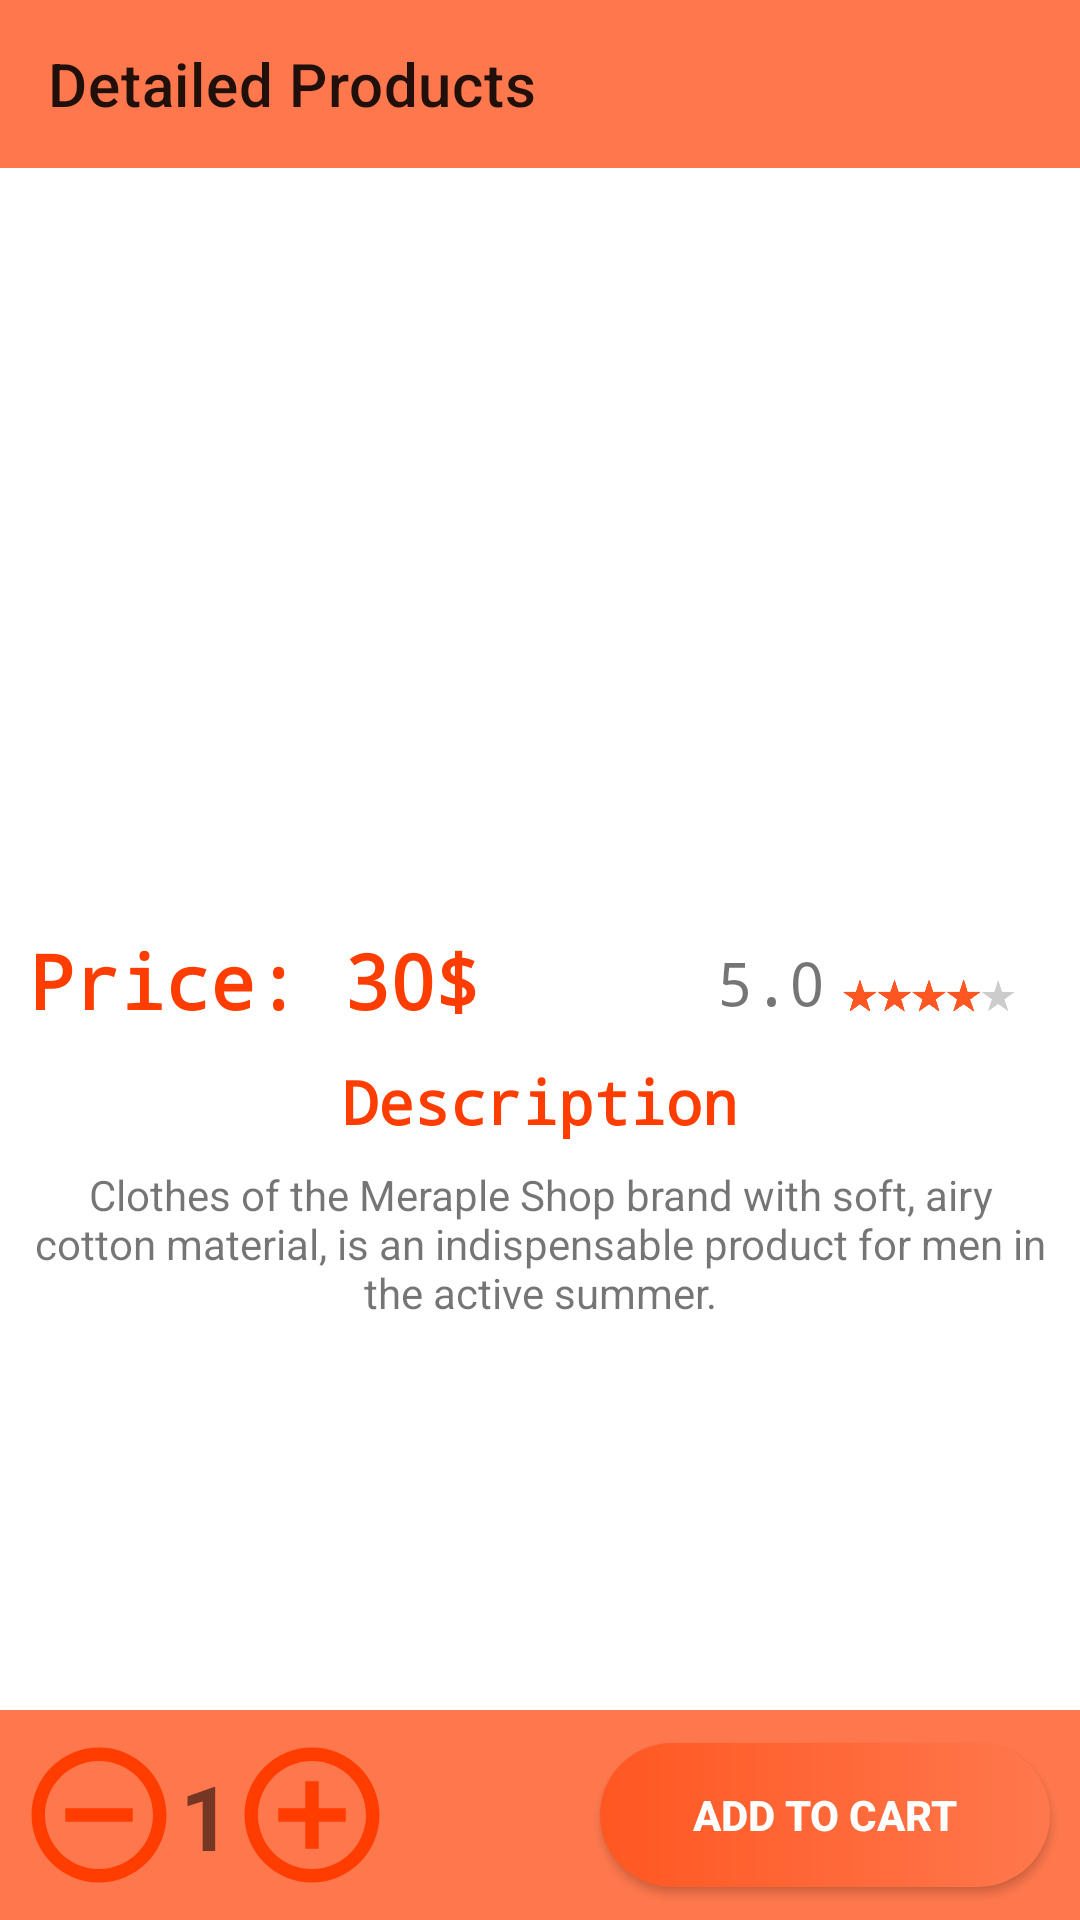

Where to tap for icons on this 1080×1920 app screen, as point (x, y):
add circle: point (312, 1815)
ratingbar: point (928, 996)
remove circle: point (99, 1815)
